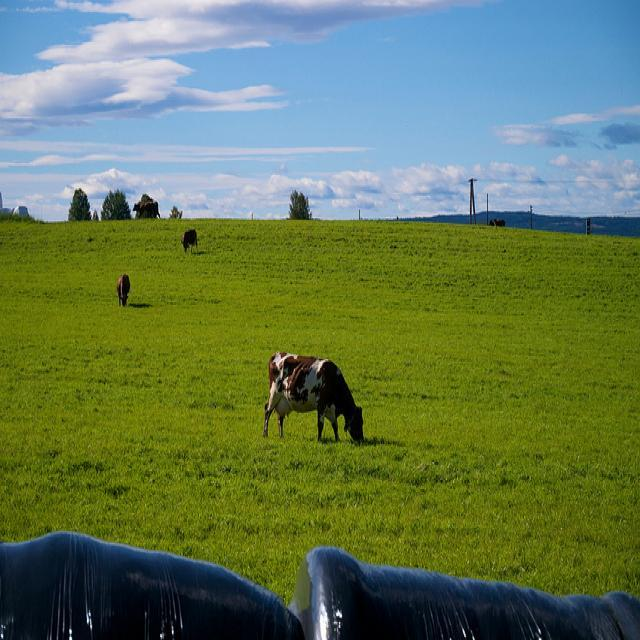cow: (260, 350, 364, 446), (131, 199, 159, 218), (116, 271, 129, 305), (179, 228, 196, 252)
